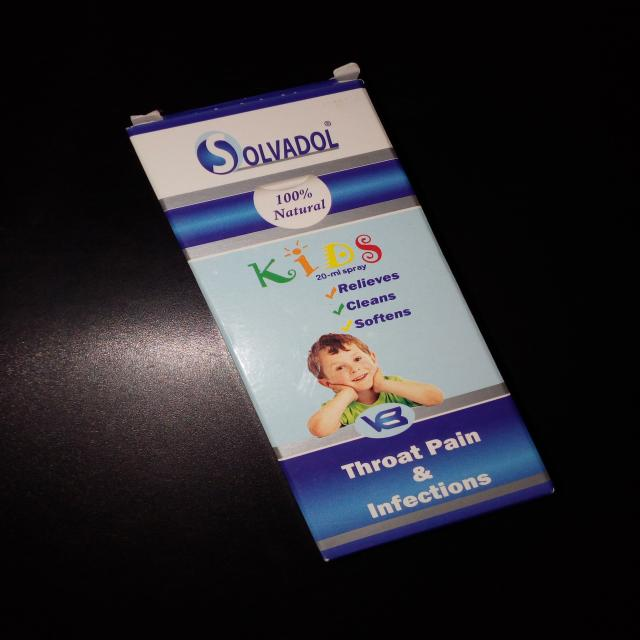Medicine: (123, 57, 563, 563)
